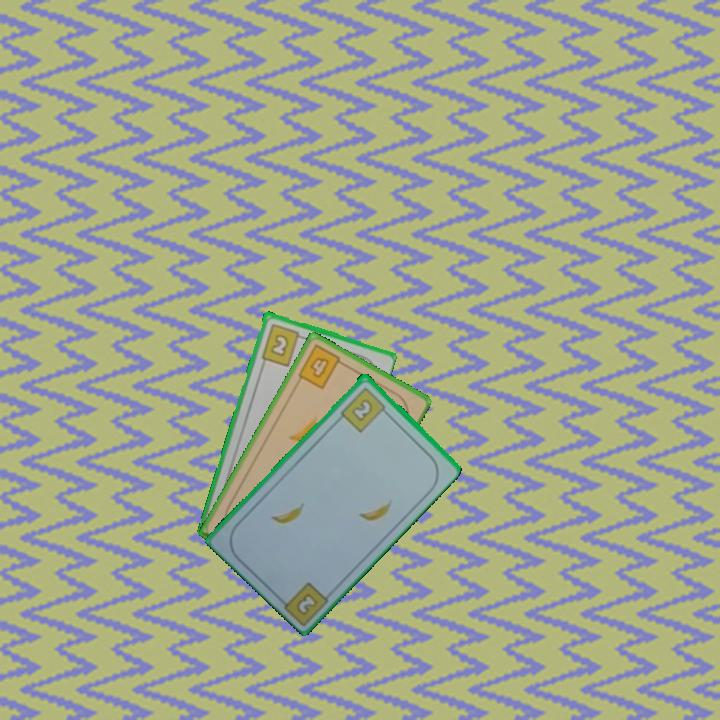2b: (337, 383, 391, 435), (275, 578, 332, 626), (258, 320, 307, 368)
4b: (294, 341, 348, 392)
